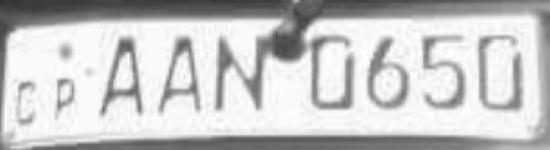0: (472, 26, 527, 122), (306, 31, 360, 116)
5: (413, 26, 473, 120)
6: (359, 28, 413, 116)
A: (148, 30, 206, 124), (92, 28, 150, 121)
C: (10, 74, 41, 126)
N: (206, 29, 274, 122)
P: (46, 74, 86, 129)
